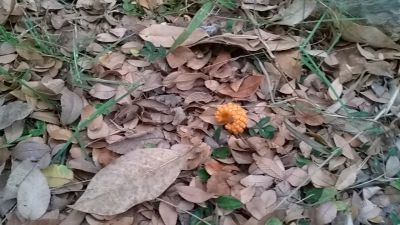eggs: (214, 100, 249, 135)
